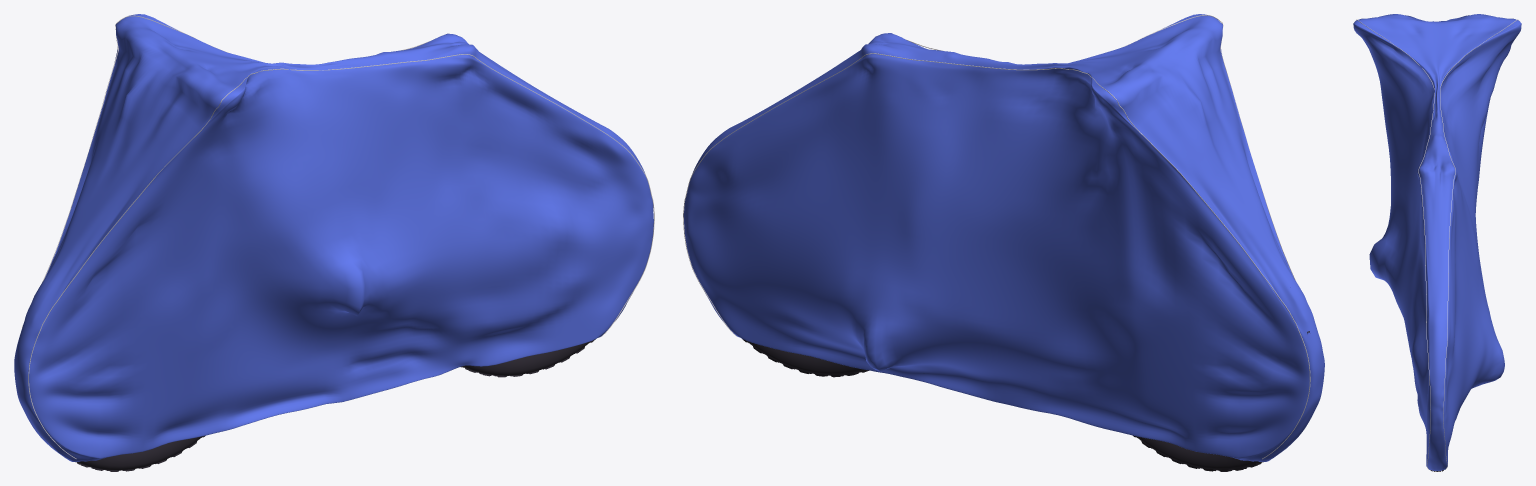
The model's file is bike.glb.
The picture shows the model from 3 angles, left to right: view 1: azimuth 30°, elevation 25°; view 2: azimuth 150°, elevation 25°; view 3: azimuth 270°, elevation 25°; orthographic projection. The views are drawn at different scales.
Parts seen in each view (by area): view 1: CAPA, RODA, LINHA.001; view 2: CAPA, RODA, LINHA.001; view 3: CAPA, LINHA.001.
Part boxes in pixels (x1,y1,x2,y2): CAPA: [14, 14, 653, 461]; RODA: [22, 326, 595, 471]; LINHA.001: [28, 15, 654, 458]; CAPA: [683, 14, 1324, 461]; RODA: [742, 331, 1309, 471]; LINHA.001: [683, 15, 1310, 459]; CAPA: [1353, 14, 1521, 471]; LINHA.001: [1356, 19, 1518, 469].
Bounding box in the file's own units: 6.28 × 3.83 × 1.88.
